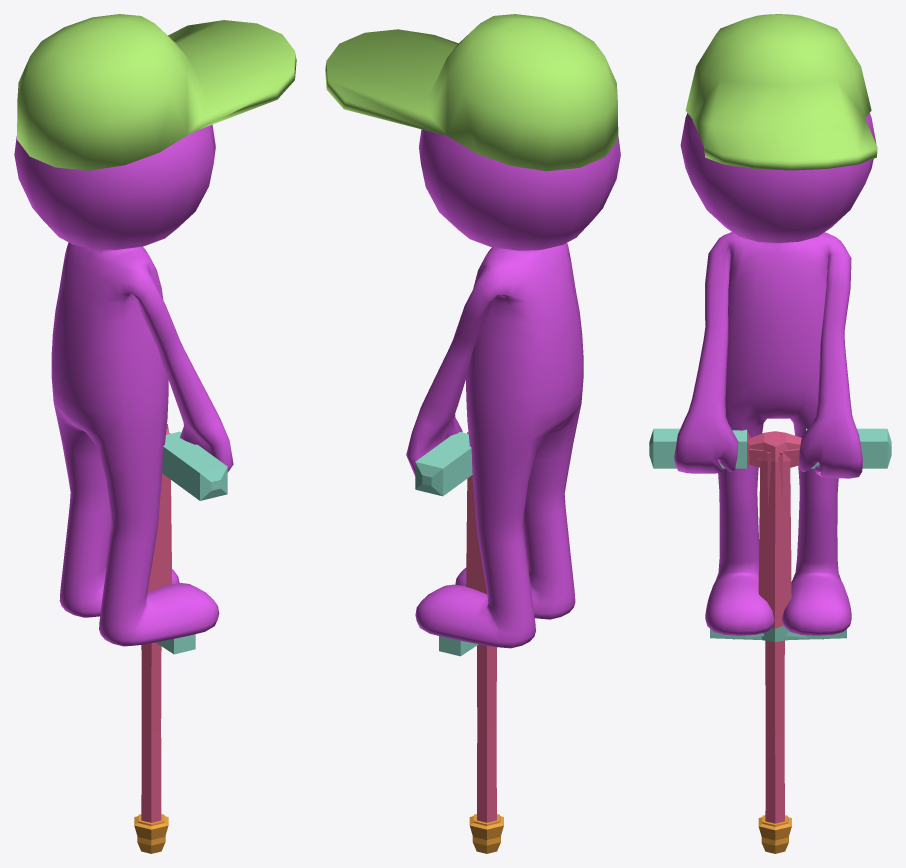
The model's file is PogoAnimTest1.fbx.
3 renders of one model, left to right at view 1: azimuth 30°, elevation 25°; view 2: azimuth 150°, elevation 25°; view 3: azimuth 270°, elevation 25°, orthographic. The views are drawn at different scales.
Parts seen in each view (by area): view 1: PogoTest; view 2: PogoTest; view 3: PogoTest.
Part boxes in pixels (box(x1,y1,x2,y2)): PogoTest: box(14, 14, 296, 853); PogoTest: box(325, 14, 620, 853); PogoTest: box(649, 14, 891, 853).
Size of the model in its own units: 0.3299 by 0.9939 by 0.2703.
